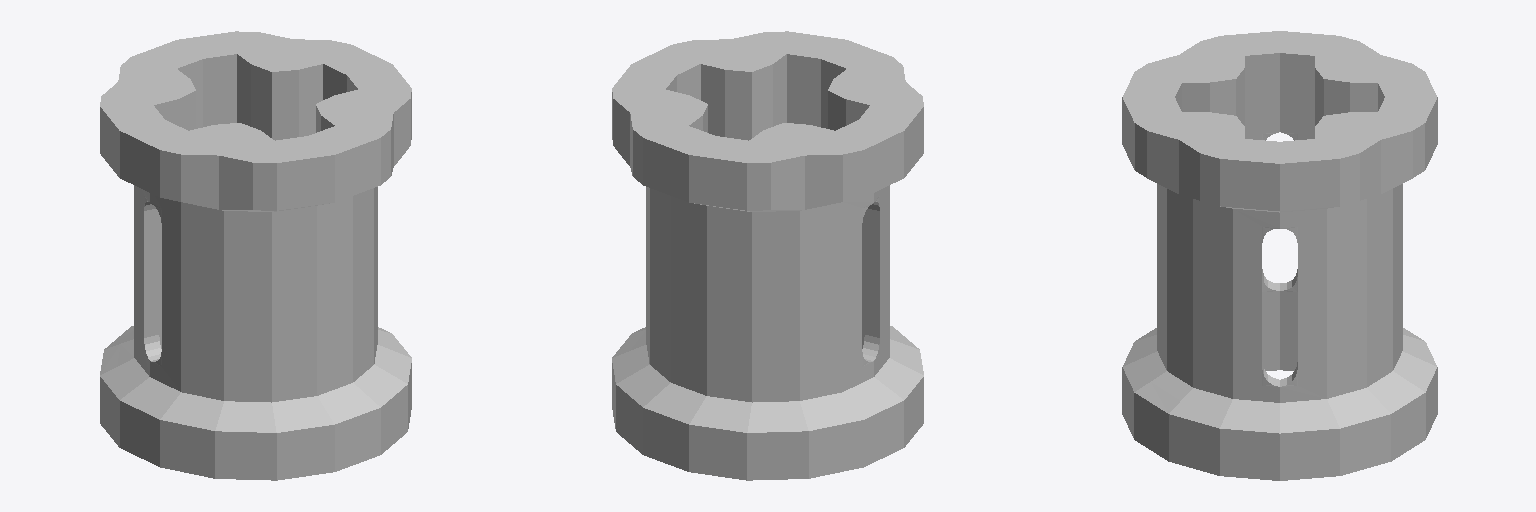
File: Piece024.obj
3 renders of one model, left to right at view 1: azimuth 30°, elevation 25°; view 2: azimuth 150°, elevation 25°; view 3: azimuth 270°, elevation 25°, orthographic.
Visible parts, largest first — view 1: Piece000; view 2: Piece000; view 3: Piece000.
Boxes of the visible parts, <box> form: Piece000: <box>100,31,411,480</box>; Piece000: <box>612,31,923,480</box>; Piece000: <box>1122,31,1437,480</box>.
Size of the model in its own units: 18 by 20 by 18.